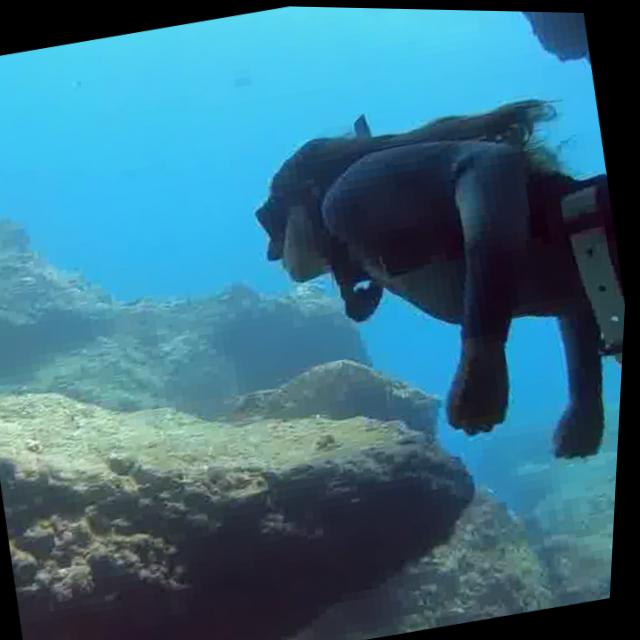human: (224, 61, 638, 519)
